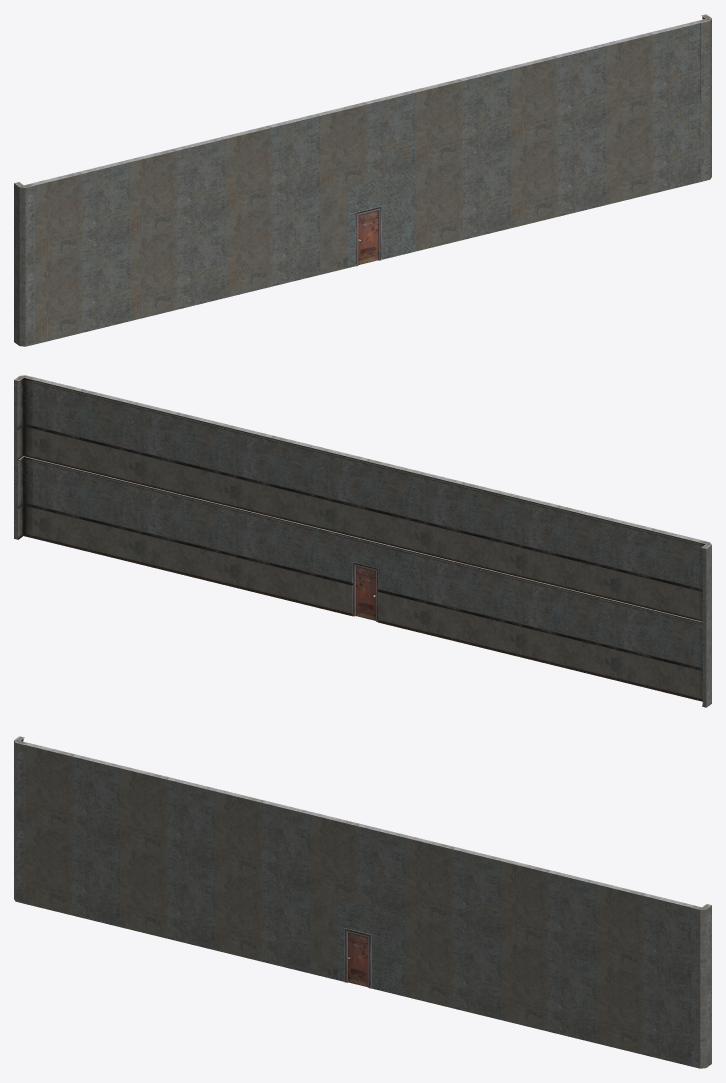
Rendered from EndLocationglb.glb.
3 views of the same model, one above another, from view 1: azimuth 30°, elevation 25°; view 2: azimuth 150°, elevation 25°; view 3: azimuth 330°, elevation 25° (orthographic).
Parts seen in each view (by area): view 1: Null.002; view 2: Null.002; view 3: Null.002.
Part boxes in pixels (x1,y1,x2,y2): Null.002: (14,14,711,346); Null.002: (14,375,711,707); Null.002: (14,736,711,1068).
Bounding box in the file's own units: 36.29 × 7.96 × 0.8092.
Materials: 19 (19 with a texture image).
